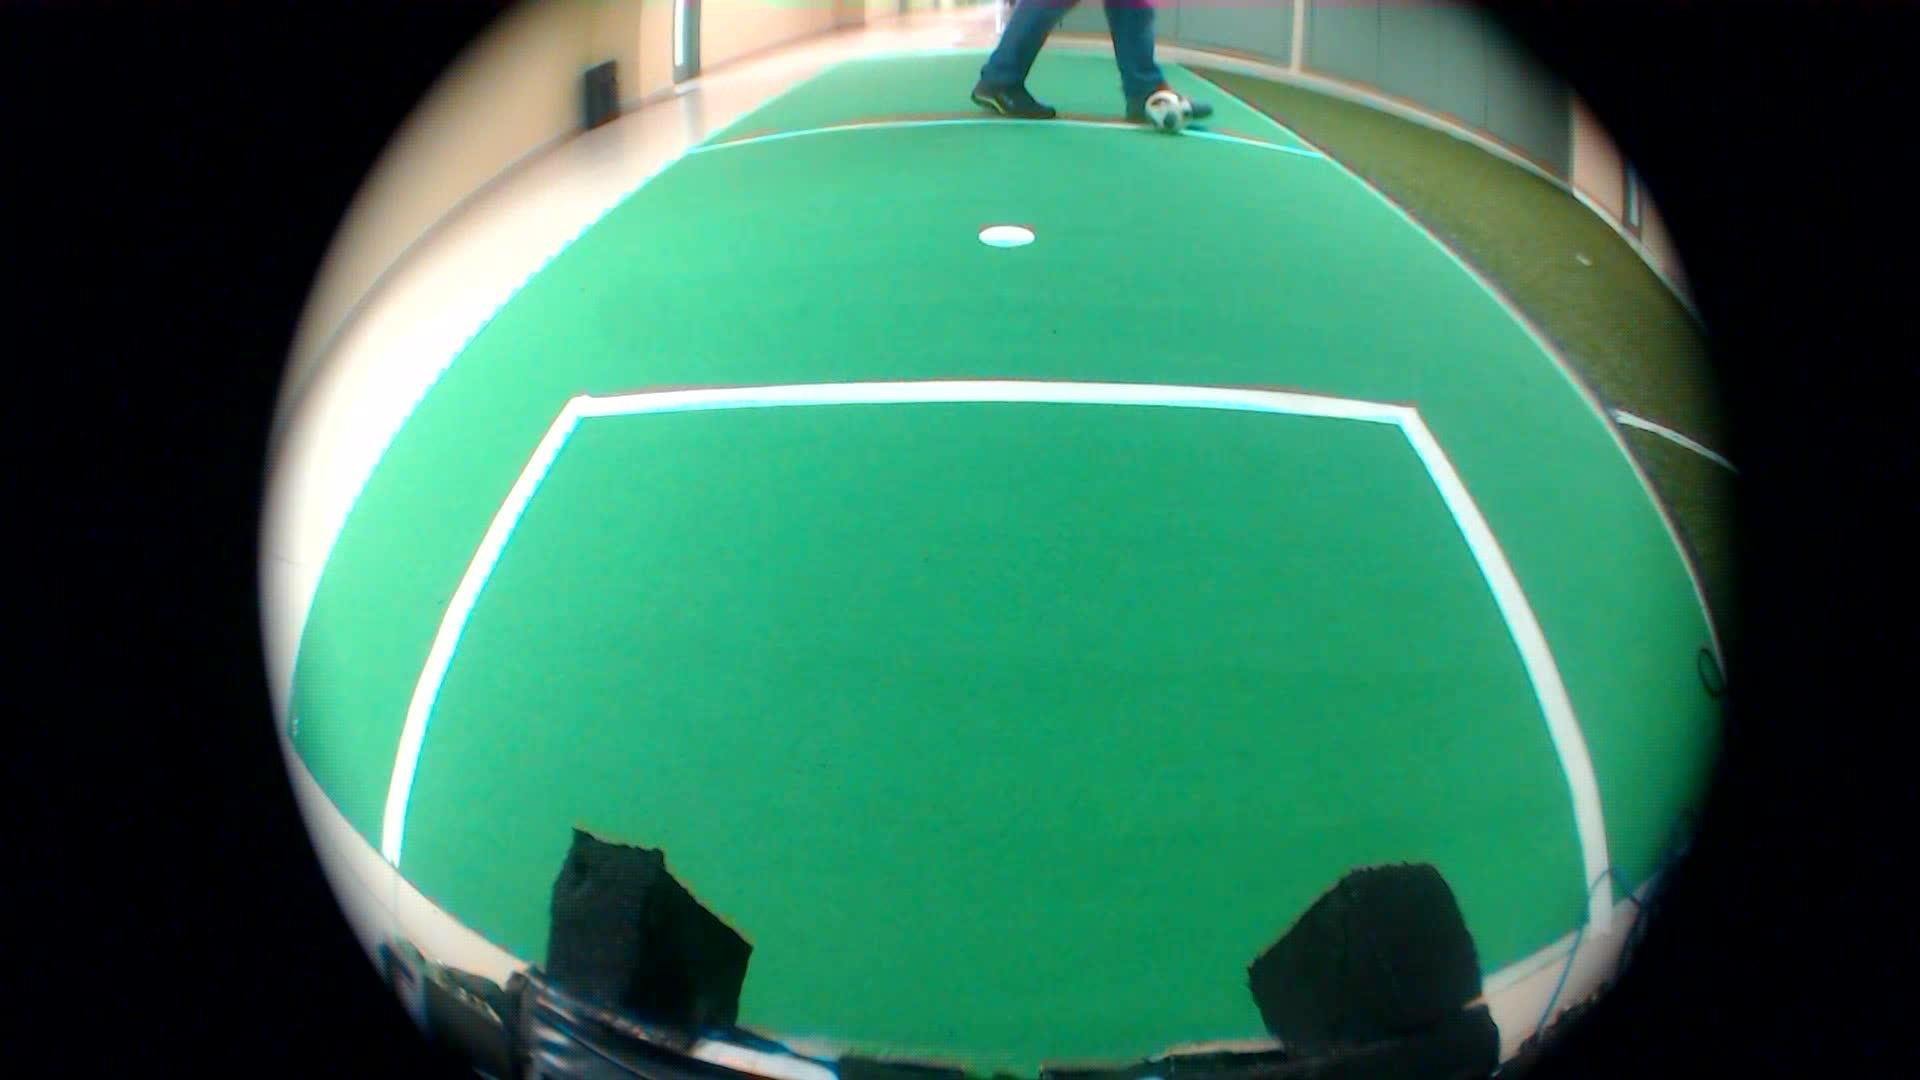ball: (1149, 83, 1208, 140)
